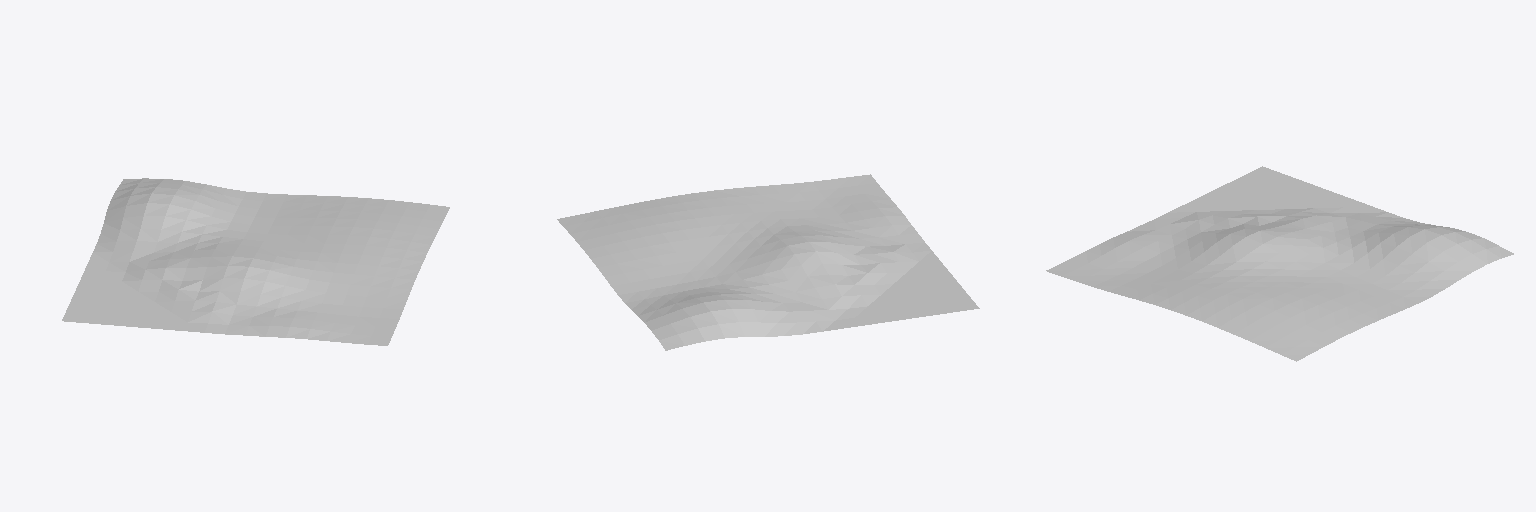
Rendered from Terrain.obj.
3 renders of one model, left to right at view 1: azimuth 30°, elevation 25°; view 2: azimuth 150°, elevation 25°; view 3: azimuth 270°, elevation 25°, orthographic.
Visible parts, largest first — view 1: Ground_Plane; view 2: Ground_Plane; view 3: Ground_Plane.
Boxes of the visible parts, <box> form: Ground_Plane: <box>62,178,449,345</box>; Ground_Plane: <box>557,174,979,350</box>; Ground_Plane: <box>1046,166,1513,361</box>.
Bounding box in the file's own units: 777 × 34.35 × 777.